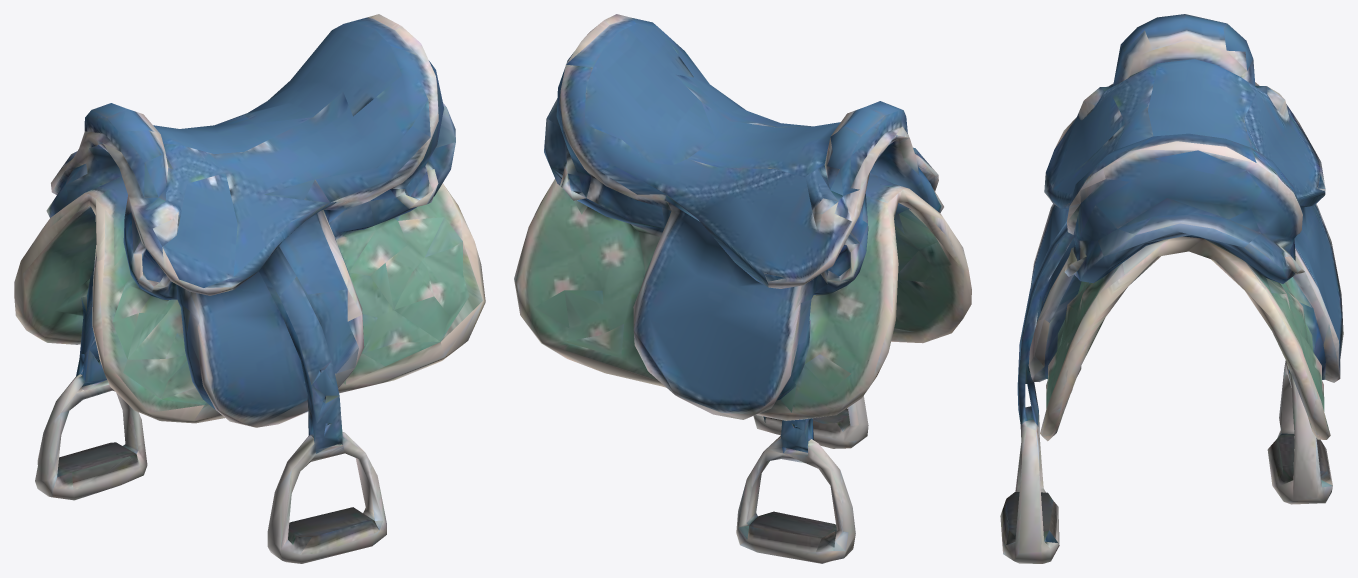
The picture shows the model from 3 angles, left to right: view 1: azimuth 30°, elevation 25°; view 2: azimuth 150°, elevation 25°; view 3: azimuth 270°, elevation 25°; orthographic projection. The views are drawn at different scales.
Parts seen in each view (by area): view 1: saddle-blue; view 2: saddle-blue; view 3: saddle-blue.
Part boxes in pixels (<box>): saddle-blue: <box>14,14,485,563</box>; saddle-blue: <box>514,14,971,563</box>; saddle-blue: <box>1000,14,1343,563</box>.
Bounding box in the file's own units: 0.3754 × 0.4238 × 0.2788.
1 material, 1 textured.
